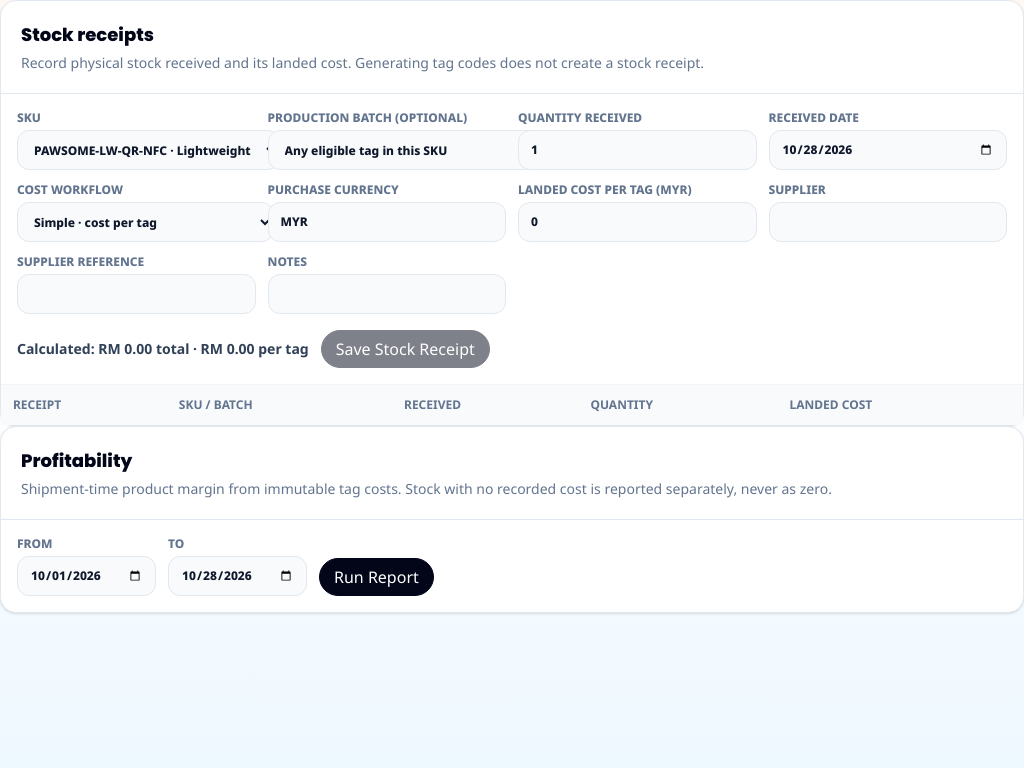
AdminInventoryCostingPanel stock receipts › keeps a saved receipt saved when the list then fails to reload
Select "MPL-BAT-260911002857-1515 · 300 eligible" in the dropdown labelled "Production batch (optional)" at [415, 150], box [268,130,562,170]
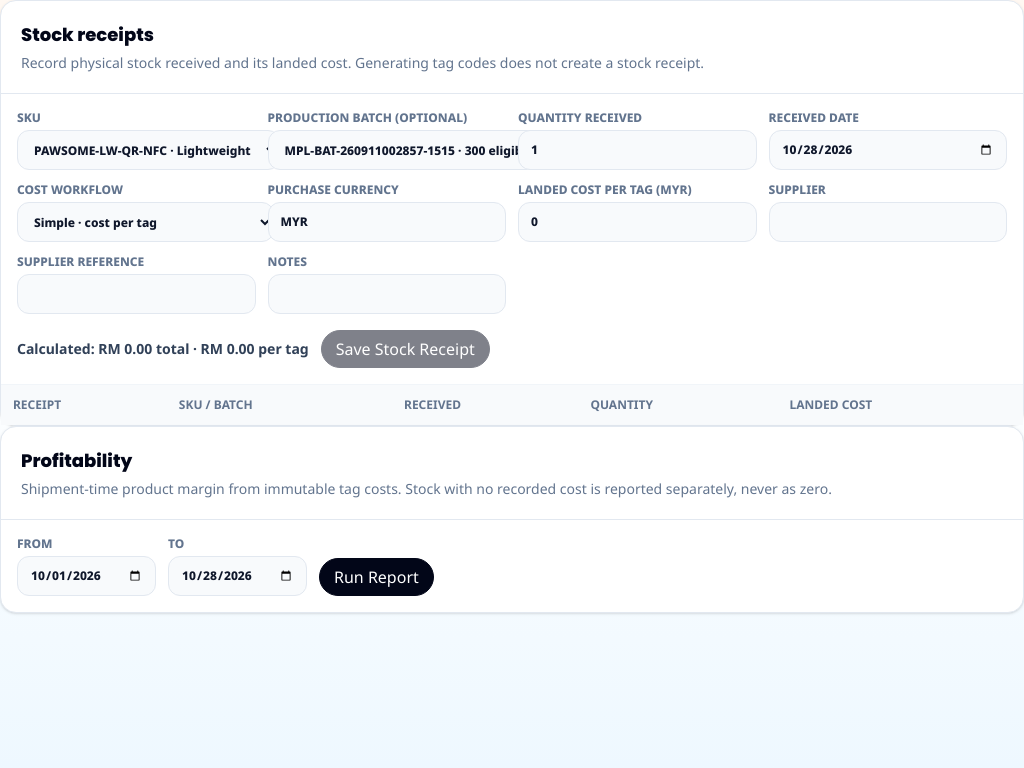
Replace the text in the number field labelled "Quantity received" with "300" at [637, 150], box [518,130,756,170]
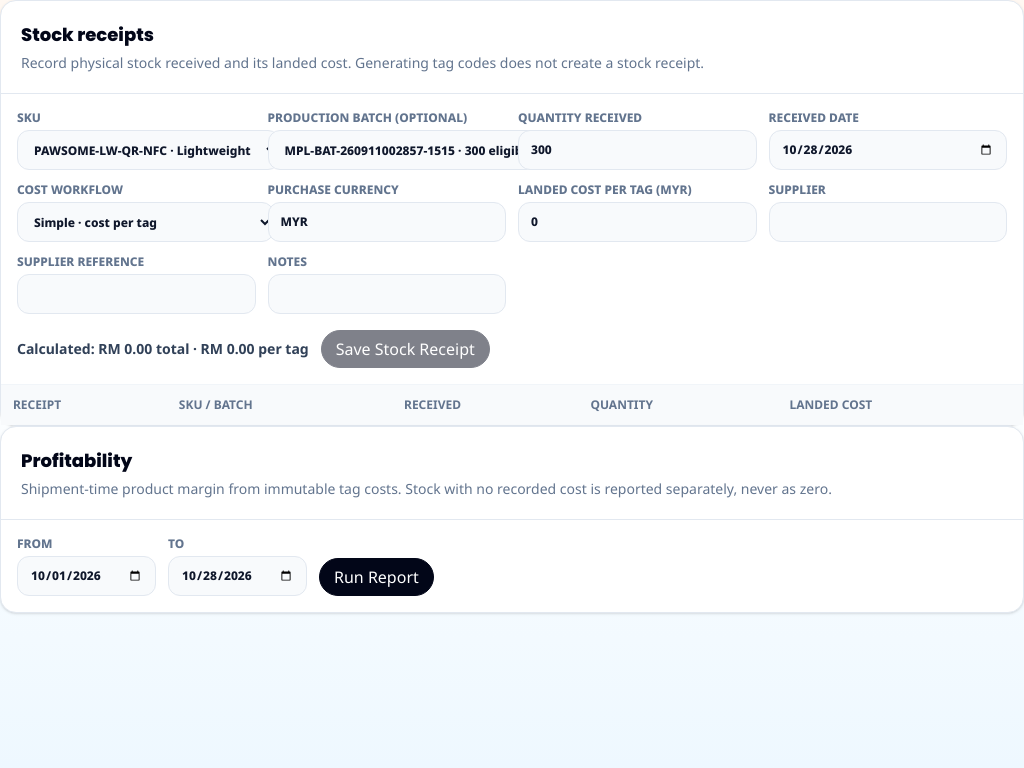
Type "2026-10-11" into the date field labelled "Received date".
click(888, 150); type("2026-10-11")  # box [768,130,1007,170]
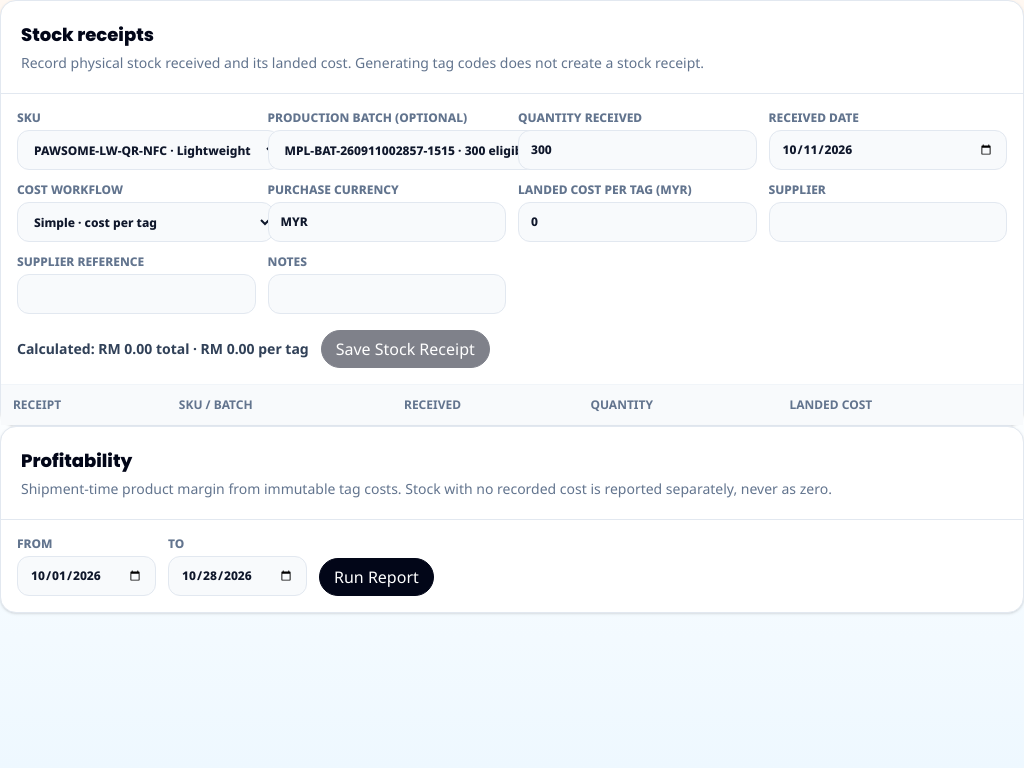
Replace the text in the number field labelled "Landed cost per tag (MYR)" with "3.1728" at [637, 222], box [518,202,756,242]
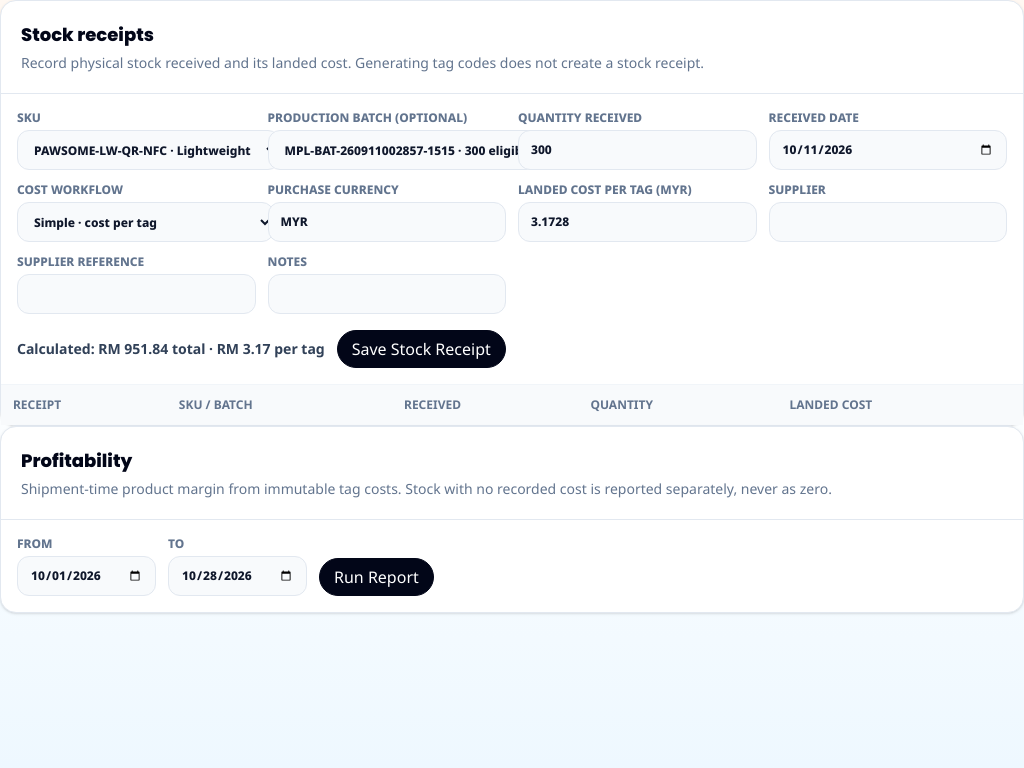
Click the button "Save Stock Receipt".
click(421, 349)  # box [337,330,506,368]
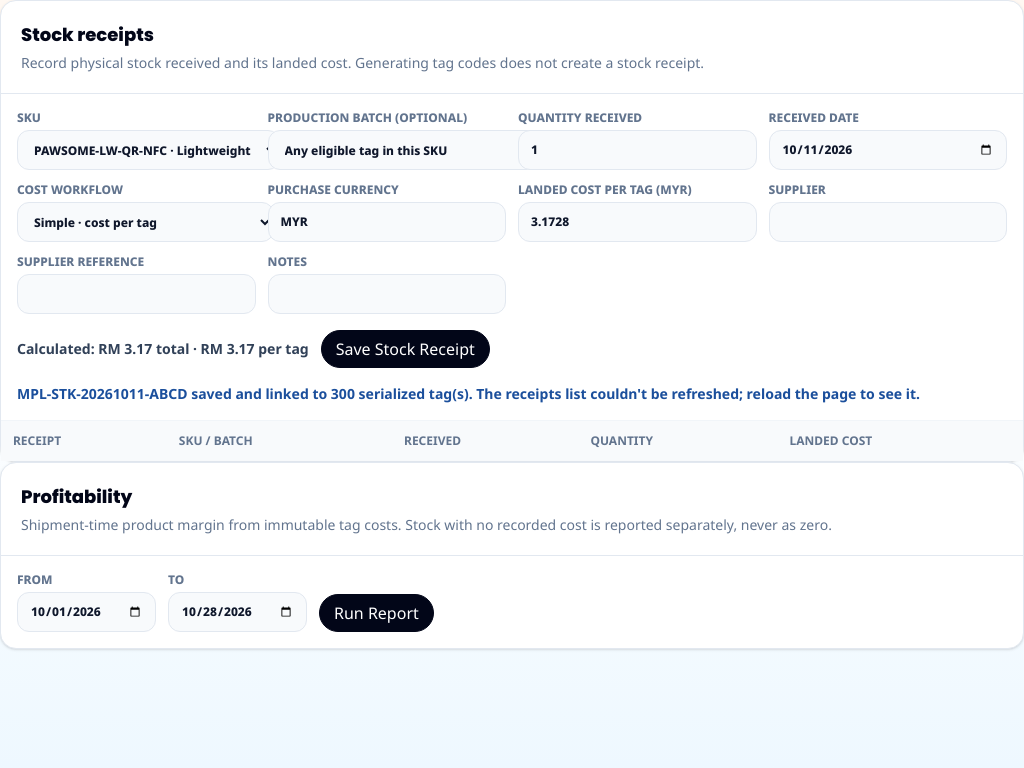
Now the message shows "MPL-STK-20261011-ABCD saved and linked to 300 serialized tag(s). The receipts list couldn't be refreshed; reload the page to see it.", box [17,384,920,403]
